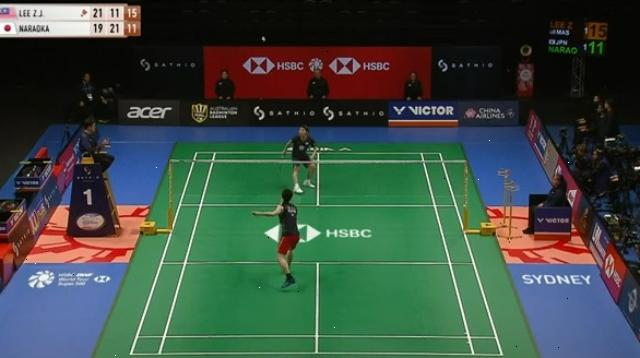Shuttlecock: (258, 32, 268, 44)
